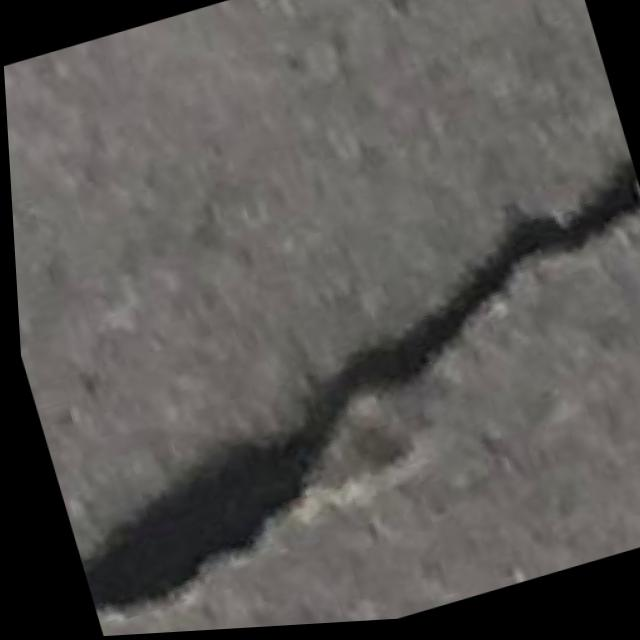Crack: (9, 154, 640, 640)
